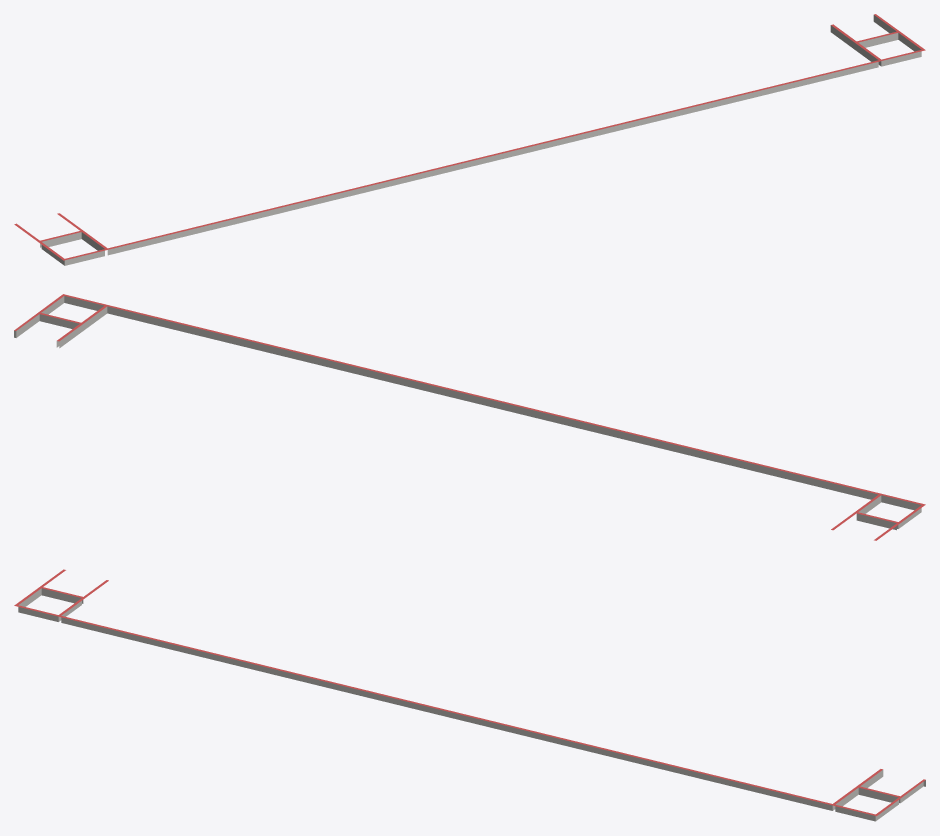
File: wall.dae
3 renders of one model, top to bottom at view 1: azimuth 30°, elevation 25°; view 2: azimuth 150°, elevation 25°; view 3: azimuth 330°, elevation 25°, orthographic.
Visible parts, largest first — view 1: SketchUp (×4); view 2: SketchUp (×3); view 3: SketchUp (×4).
Part boxes in pixels (<box>): SketchUp (×4): <box>14,14,925,265</box>; SketchUp (×3): <box>14,294,925,540</box>; SketchUp (×4): <box>14,569,925,821</box>.
Bounding box in the file's own units: 126 × 12.6 × 0.998.
